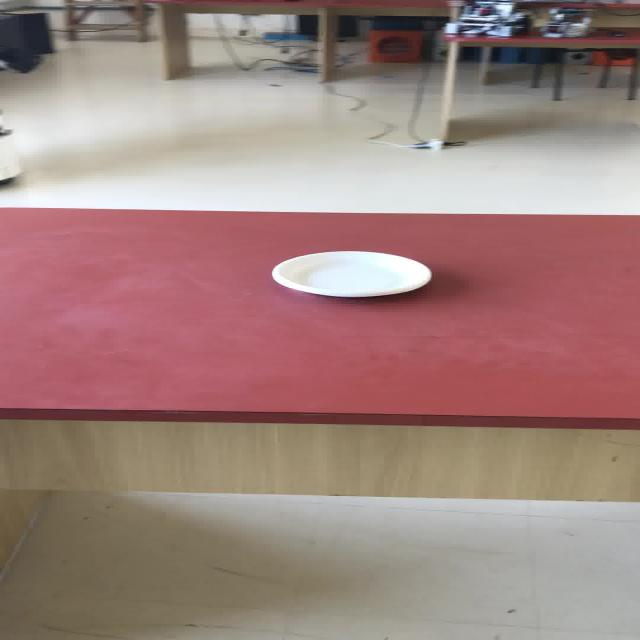plate: (270, 250, 432, 298)
